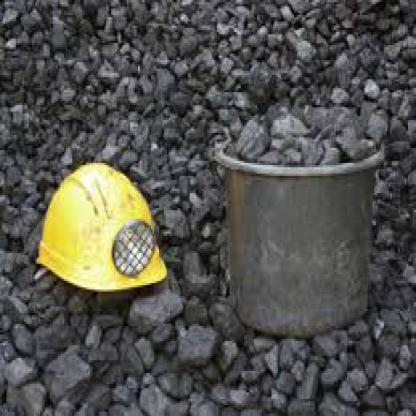Sedimentary_coal: (44, 350, 96, 388), (177, 320, 220, 360), (233, 112, 267, 154), (135, 375, 167, 414), (273, 110, 307, 140), (315, 354, 345, 386)
